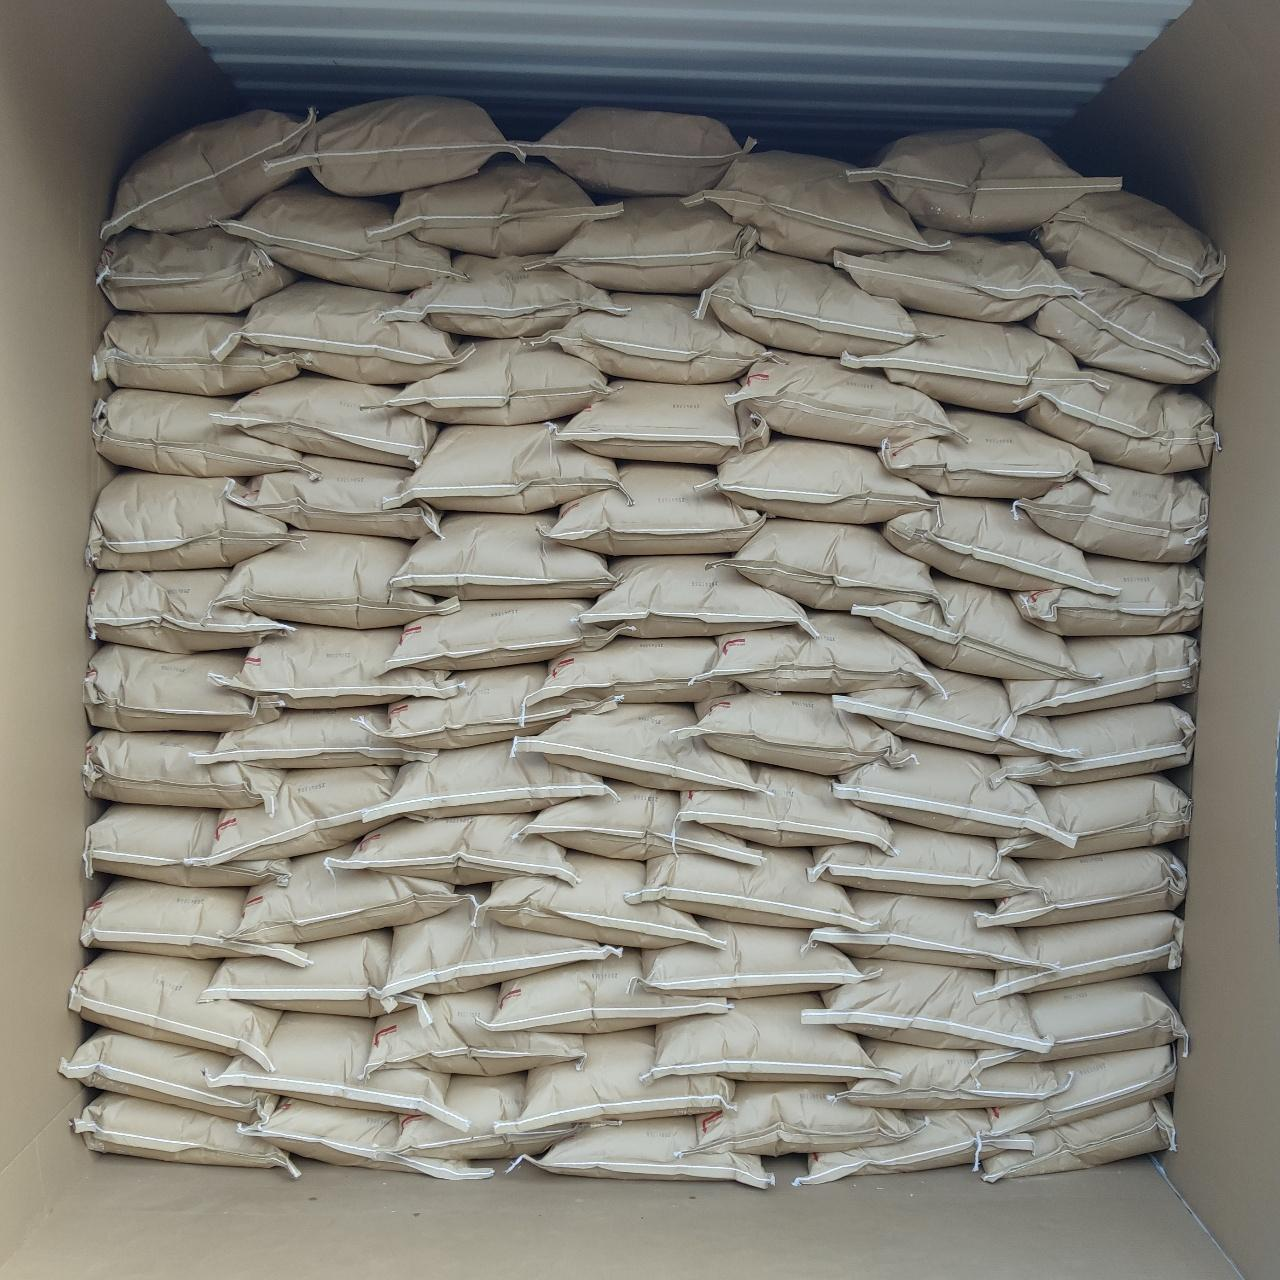sack: (210, 1012, 468, 1130), (682, 151, 947, 261), (101, 107, 316, 239), (212, 275, 474, 384), (847, 129, 1121, 233), (707, 518, 958, 628), (840, 312, 1110, 413), (381, 887, 622, 998), (851, 580, 1101, 685), (692, 241, 915, 358), (69, 951, 281, 1071), (265, 97, 524, 196), (832, 743, 1074, 847), (496, 1029, 733, 1135), (222, 183, 450, 291), (367, 159, 620, 257), (217, 530, 459, 628), (381, 422, 634, 515), (885, 496, 1119, 595), (802, 960, 1054, 1053), (726, 350, 965, 447), (358, 663, 622, 750), (526, 196, 758, 294), (520, 292, 765, 384), (233, 844, 459, 944), (481, 855, 719, 948), (833, 231, 1076, 322), (692, 612, 947, 699), (832, 670, 1081, 760), (988, 772, 1191, 881), (971, 975, 1187, 1076), (200, 930, 430, 1024), (1030, 267, 1218, 383), (86, 471, 304, 570), (211, 625, 467, 708), (878, 408, 1109, 499), (59, 1028, 278, 1124), (694, 437, 937, 524), (624, 845, 872, 930), (1032, 191, 1224, 300), (665, 692, 915, 775), (510, 704, 757, 789), (91, 389, 319, 481), (481, 949, 730, 1033), (239, 1097, 492, 1179), (520, 107, 756, 195), (362, 737, 611, 821), (641, 995, 883, 1081), (212, 376, 435, 469), (81, 878, 312, 967), (513, 784, 762, 866), (376, 599, 634, 678), (381, 256, 627, 338), (365, 986, 581, 1077), (578, 556, 819, 638), (676, 764, 894, 855), (388, 513, 614, 600), (812, 888, 1057, 968), (547, 463, 760, 554), (72, 1092, 299, 1177), (384, 340, 607, 425), (205, 765, 399, 864), (1024, 375, 1217, 474), (505, 1118, 774, 1189), (1016, 464, 1208, 561), (397, 1075, 618, 1159), (794, 1108, 1035, 1184), (680, 1082, 920, 1157), (557, 380, 769, 464), (226, 455, 437, 539), (979, 912, 1183, 999), (87, 568, 295, 652), (326, 815, 577, 884), (83, 804, 291, 887), (83, 644, 279, 731), (97, 227, 295, 313), (91, 314, 298, 396), (642, 920, 860, 998), (83, 729, 282, 813), (976, 847, 1187, 927), (837, 1039, 1070, 1110), (989, 1046, 1176, 1133), (982, 1097, 1175, 1182), (1001, 702, 1194, 785), (809, 826, 1029, 897), (1005, 634, 1198, 714), (190, 706, 436, 768), (1012, 557, 1203, 635), (526, 638, 737, 703)
